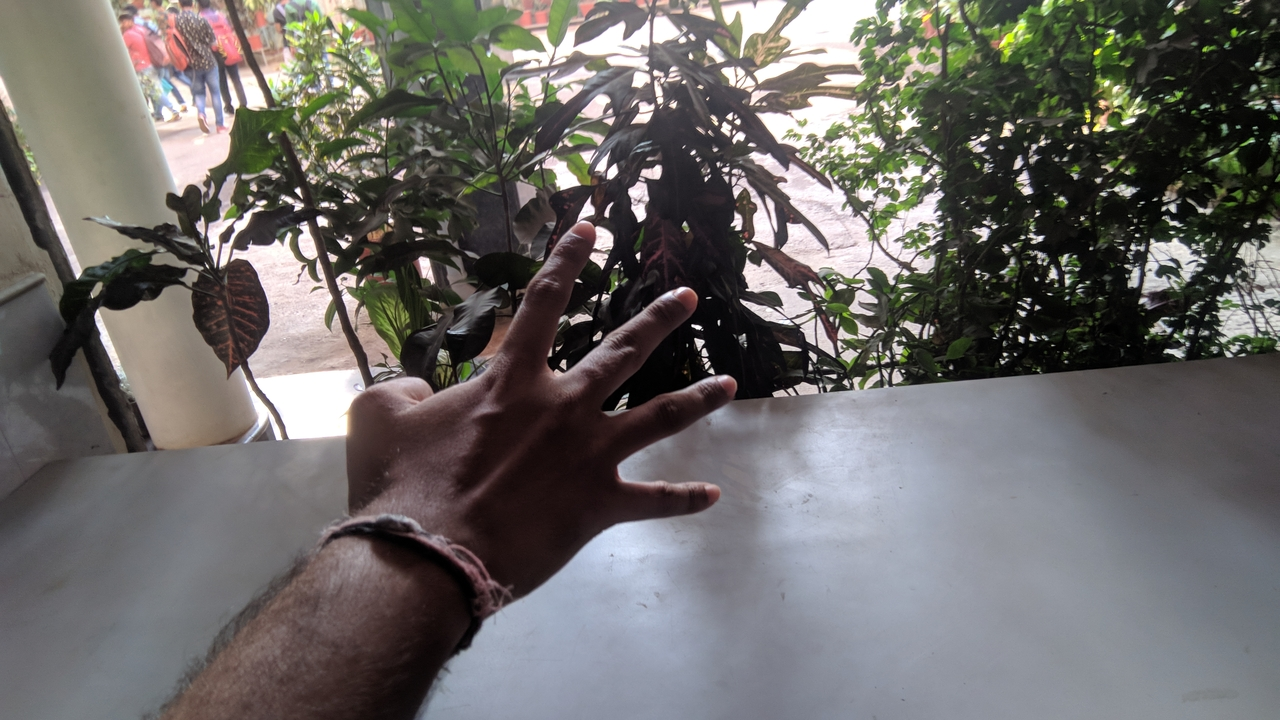fingertip: (638, 278, 702, 324), (553, 216, 609, 251), (701, 366, 747, 403), (697, 473, 733, 517)
